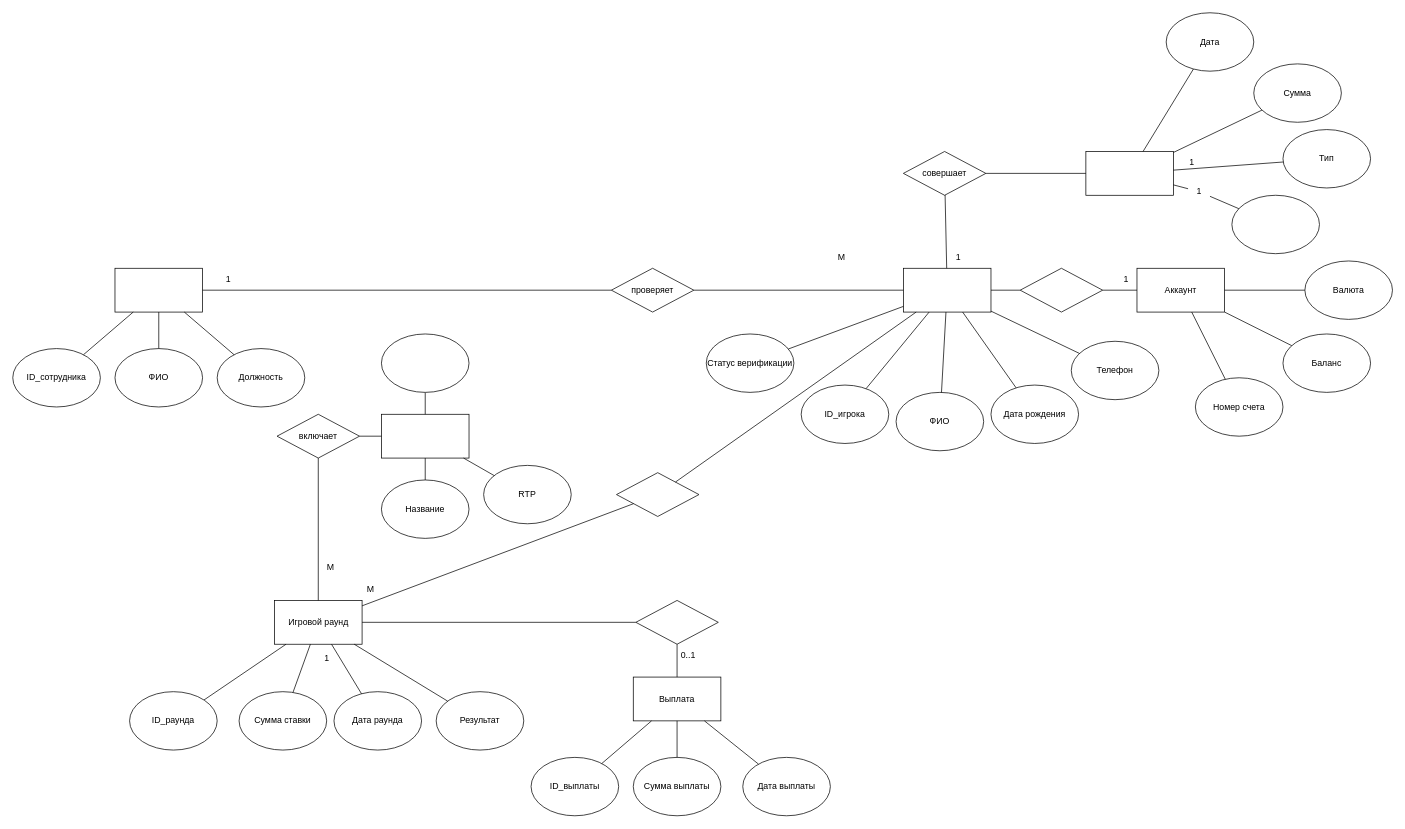
The diagram is 1405 pixels wide and 829 high, and some of its shapes have lost their labels. The box of each missing label's shape, as (x1, y1, x2, y2) in pixels:
ID_игры: (381, 333, 469, 392)
ID_транзакции: (1231, 195, 1319, 254)
владеет: (1019, 268, 1103, 312)
Игра: (381, 414, 469, 458)
Игрок: (903, 268, 991, 312)
приводит к: (635, 600, 718, 644)
Сотрудник СБ: (114, 268, 203, 312)
Транзакция: (1085, 151, 1173, 195)
участвует: (616, 472, 699, 516)
